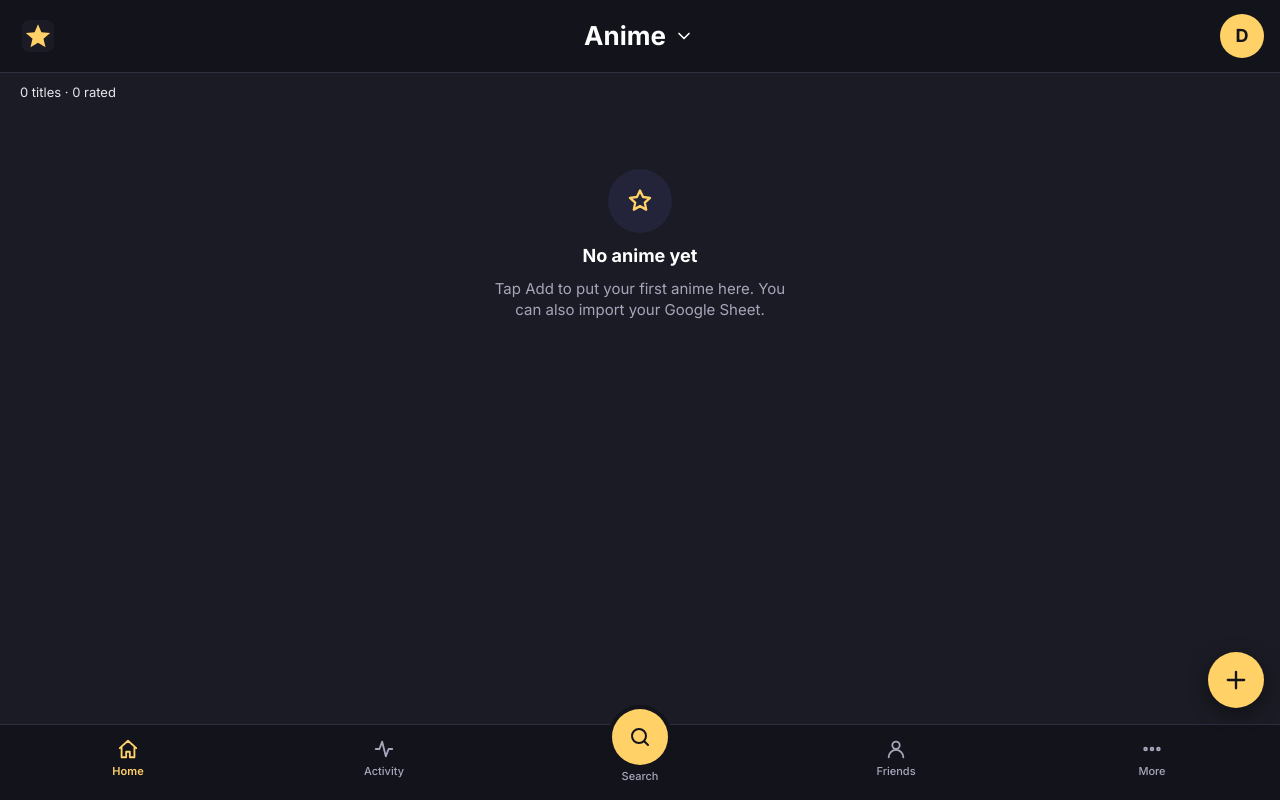
Scenario: lists order and hidden (AD11) › the Switch list menu follows the admin order and leaves out hidden lists
Click the button "Anime": (640, 36) [580,14,700,58]
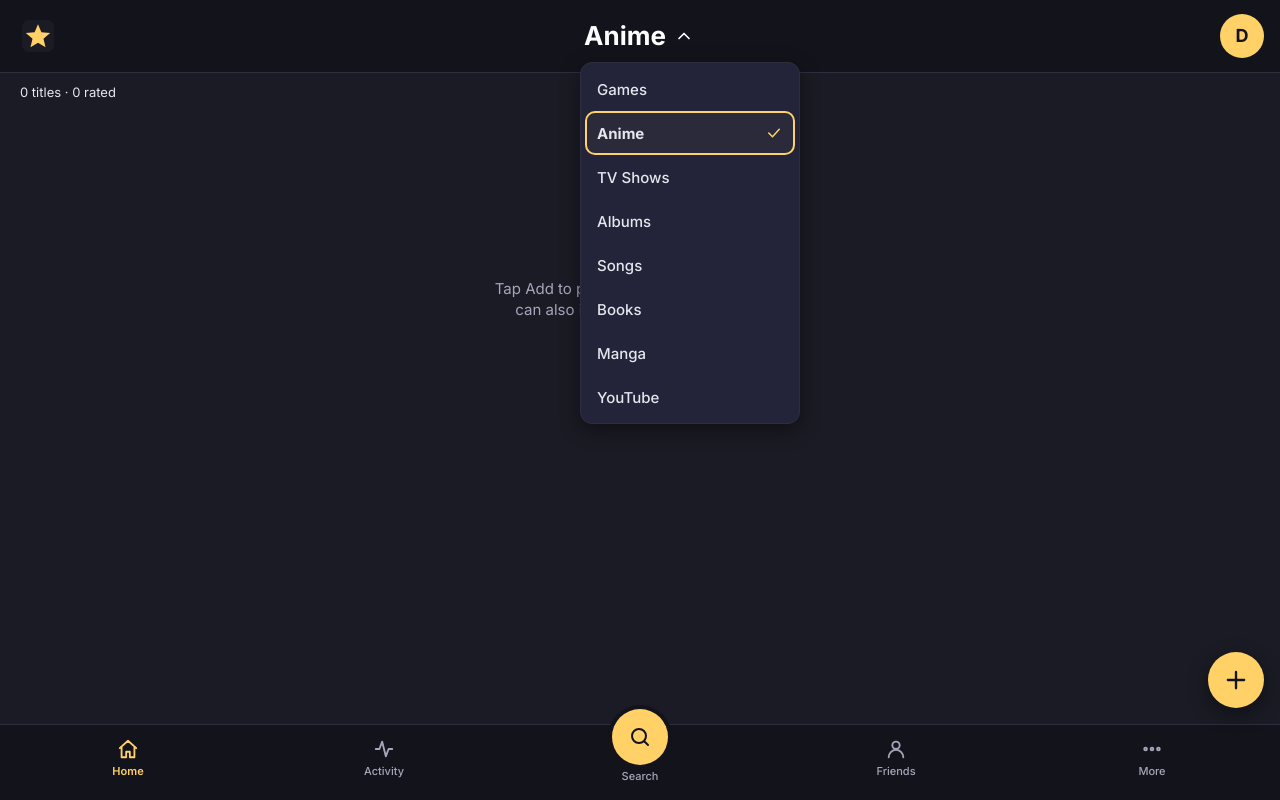
Expected: the text "Games" is shown, [597,80,647,98]
